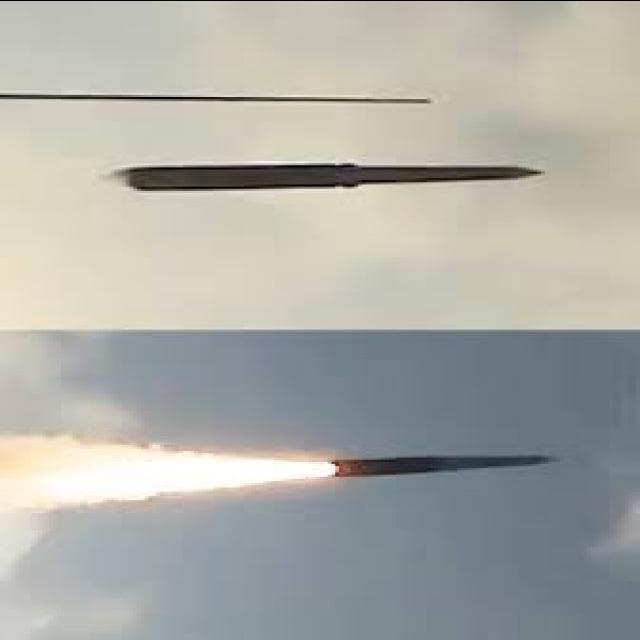missile: (97, 150, 576, 213), (316, 437, 593, 496)
